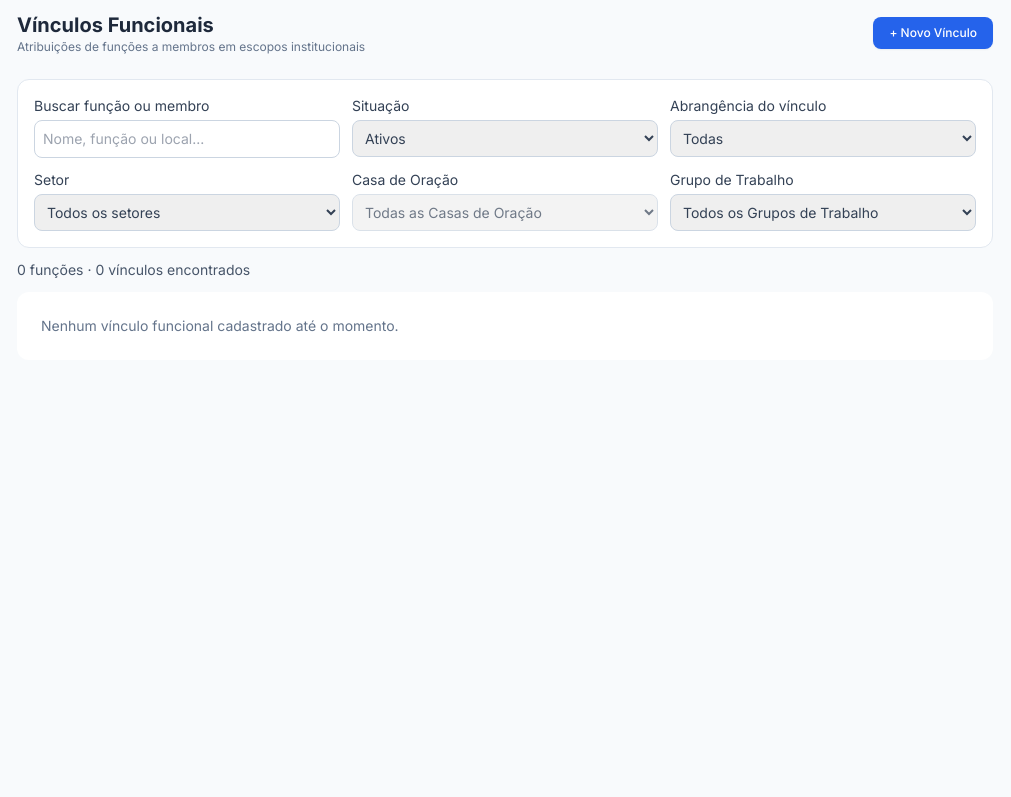
S02-B2 — VinculosFuncionaisView (Frontend) › 3. Validação: rejeição de nenhum escopo (exibição de erro Zod/Form)
Expected: the text "Nenhum vínculo funcional cadastrado até o momento." is shown, [17,292,993,360]
Click the button "+ Novo Vínculo". click: (933, 33)
box: [873,17,993,49]
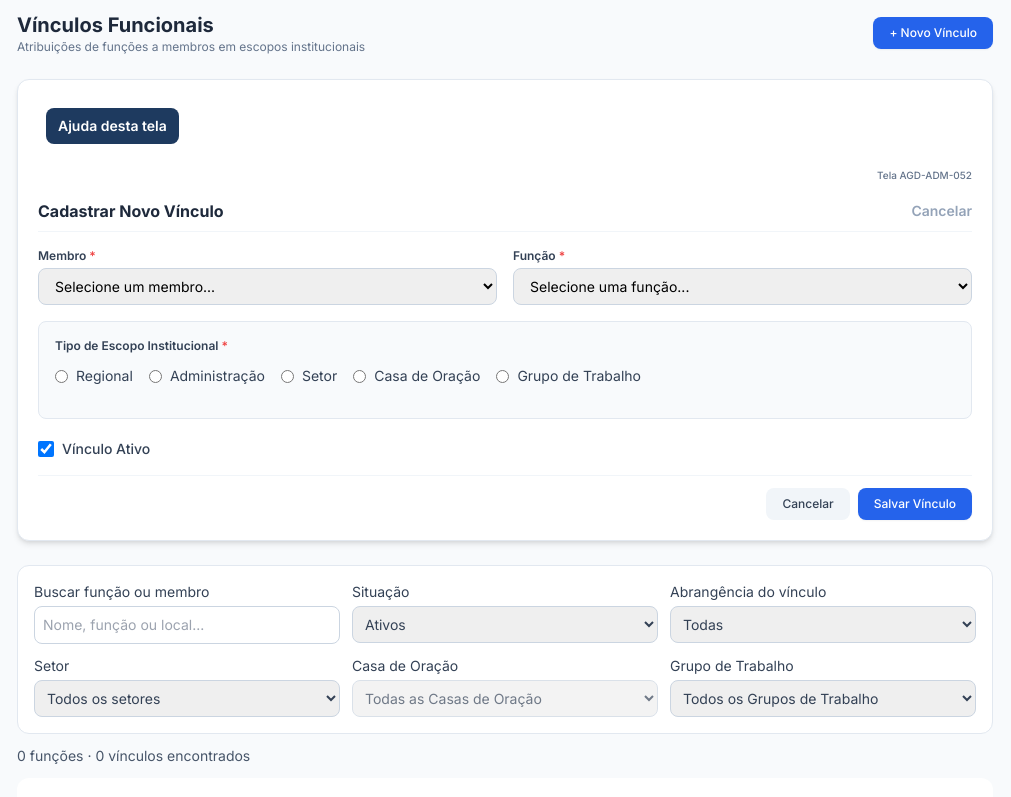
# Selecionar membro e função mas NÃO ESCOLHER ESCOPO (tipoEscopo ou escopoId vazio)
Select "João da Silva" in the dropdown labelled "Membro *". click: (268, 286)
box: [38,268,497,305]
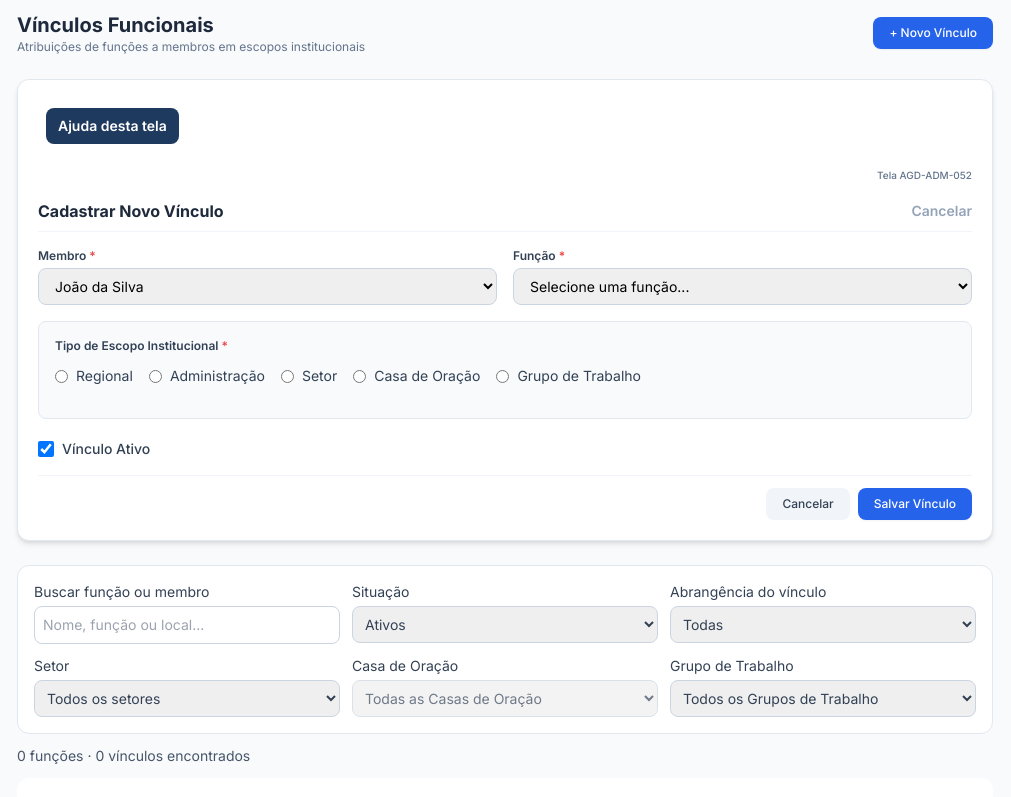
Select "Ancião" in the dropdown labelled "Função *". click: (742, 286)
box: [513,268,972,305]
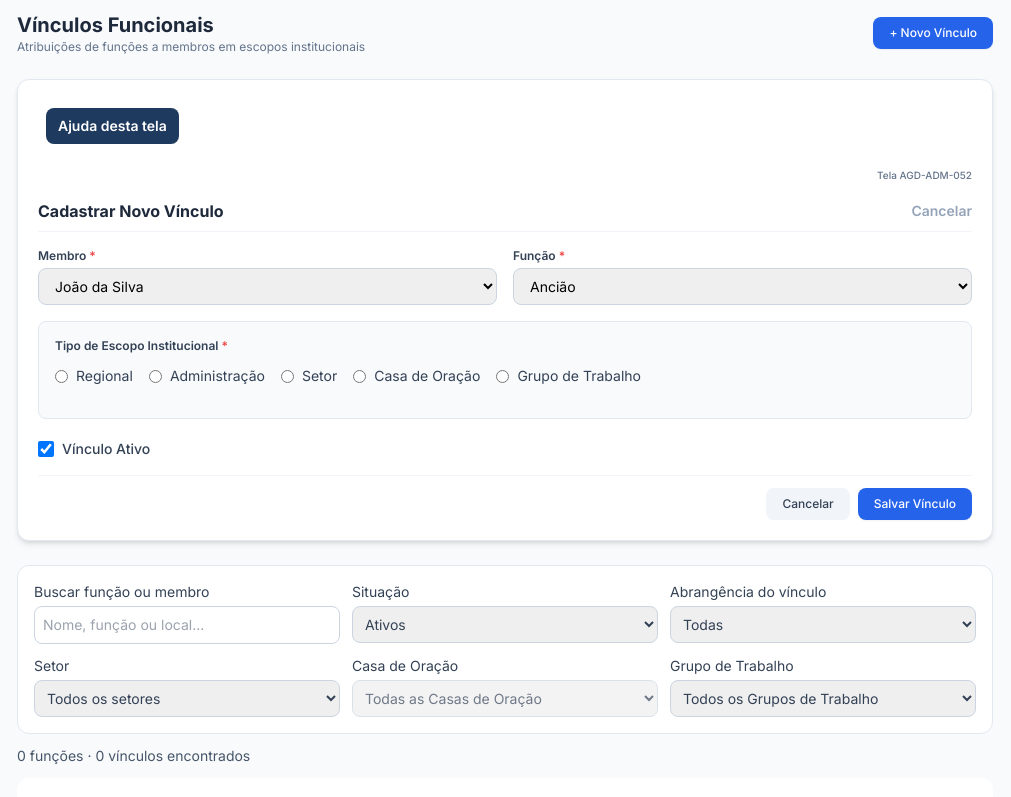
Click the button "Salvar Vínculo". click: (915, 504)
box: [858,488,972,520]
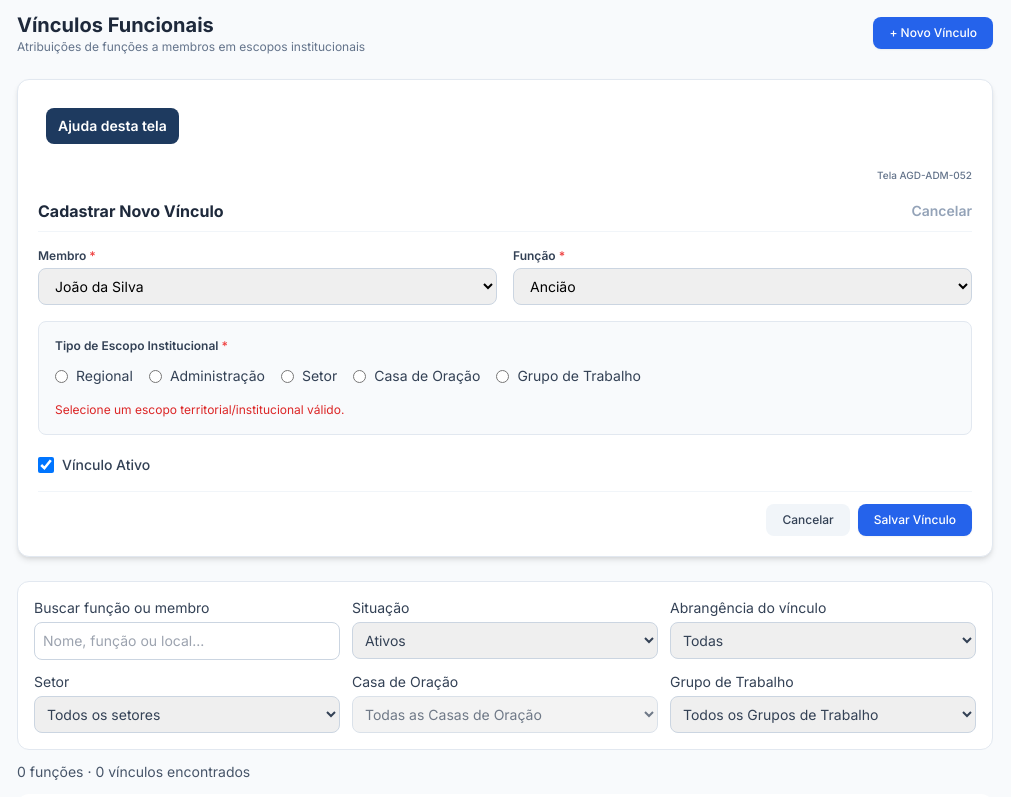
Result: the text "Selecione um escopo territorial/institucional válido." is shown at [55,402,344,417]
